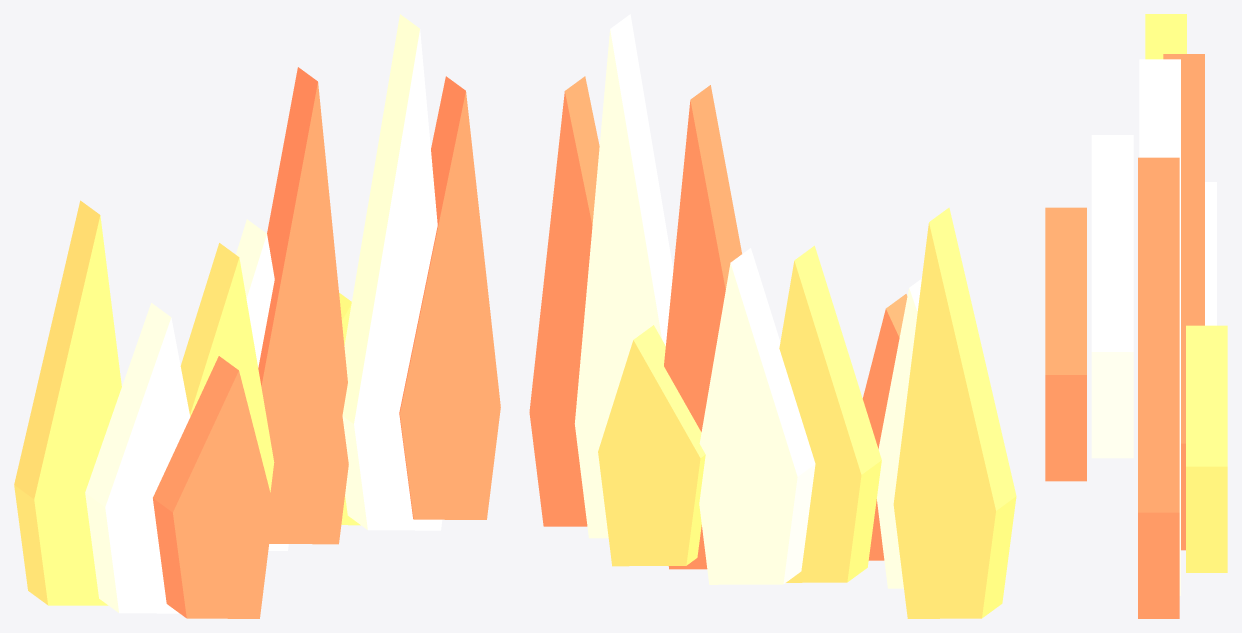
The model's file is embers.glb.
3 renders of one model, left to right at view 1: azimuth 30°, elevation 25°; view 2: azimuth 150°, elevation 25°; view 3: azimuth 270°, elevation 25°, orthographic. The views are drawn at different scales.
Parts seen in each view (by area): view 1: Embers dimensional effect.001; view 2: Embers dimensional effect.001; view 3: Embers dimensional effect.001.
Part boxes in pixels (bbox=[...]): Embers dimensional effect.001: bbox=[14, 14, 500, 618]; Embers dimensional effect.001: bbox=[529, 14, 1016, 618]; Embers dimensional effect.001: bbox=[1045, 14, 1227, 618].
Bounding box in the file's own units: 1.33 × 1.39 × 0.4364.
